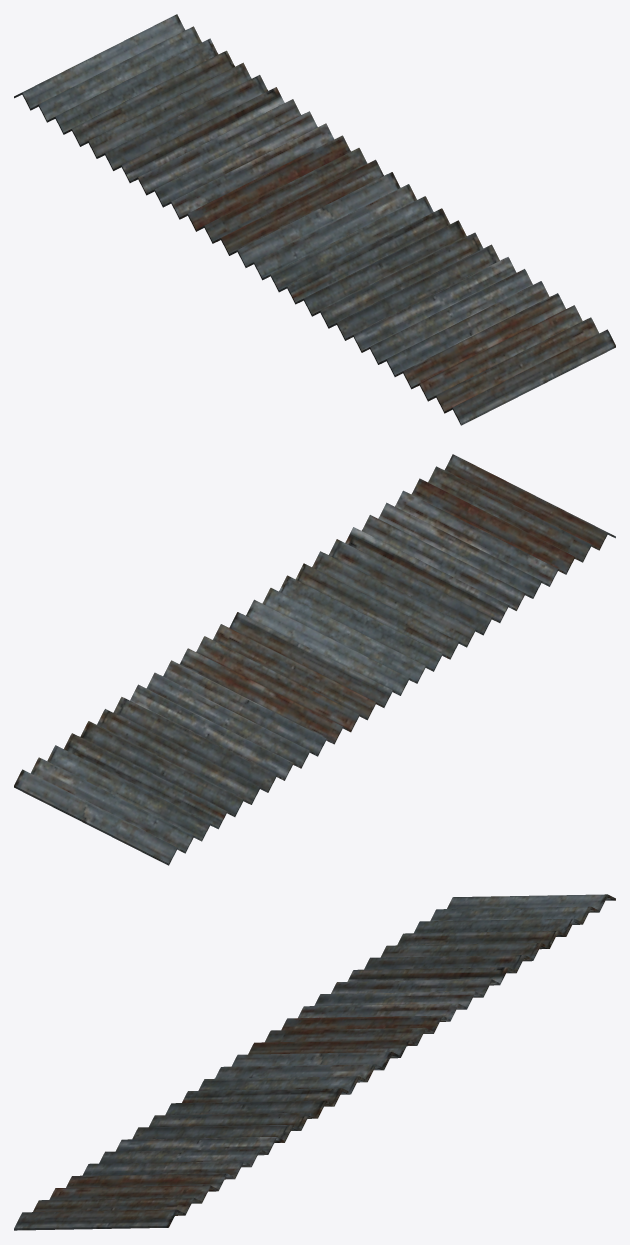
The model's file is roof_hr_3_side_1_angle.obj.
3 views of the same model, one above another, from view 1: azimuth 30°, elevation 25°; view 2: azimuth 150°, elevation 25°; view 3: azimuth 330°, elevation 25° (orthographic).
Visible parts, largest first — view 1: roof_hr_3_side_1_angle; view 2: roof_hr_3_side_1_angle; view 3: roof_hr_3_side_1_angle.
Boxes of the visible parts, x1,y1,x2,y2 form: roof_hr_3_side_1_angle: (14, 14, 615, 425); roof_hr_3_side_1_angle: (14, 454, 615, 865); roof_hr_3_side_1_angle: (14, 894, 615, 1230).
Size of the model in its own units: 0.8 by 0.26 by 4.
